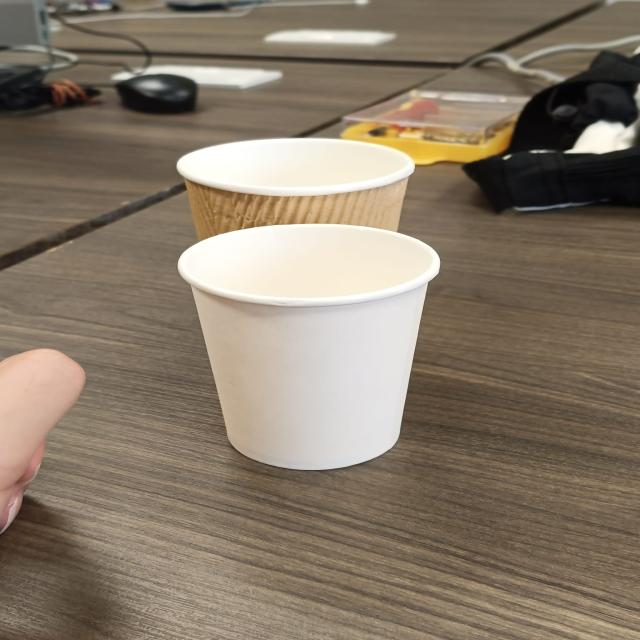Browncup: (177, 138, 415, 241)
Whitecup: (178, 223, 440, 470)
